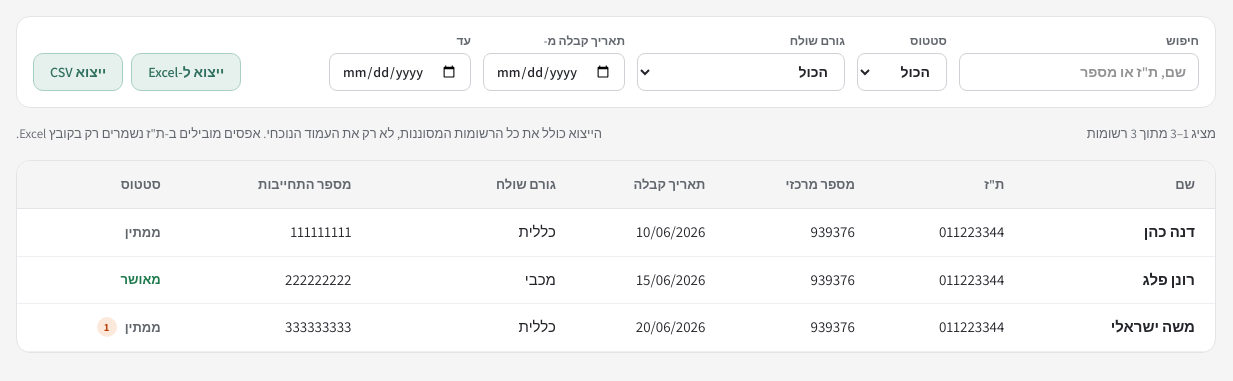
RecordsView: filters › offers "clear filters" only when a filter is set, and clears them all
The width and height of the screenshot is (1233, 381).
expect the message does not show "טוען": met, box top-left (1087, 124), bottom-right (1216, 144)
expect the button "נקי סינון" is not shown: met
Select "ממתין" in the dropdown labelled "סטטוס" at (902, 72), box top-left (857, 53), bottom-right (947, 91)
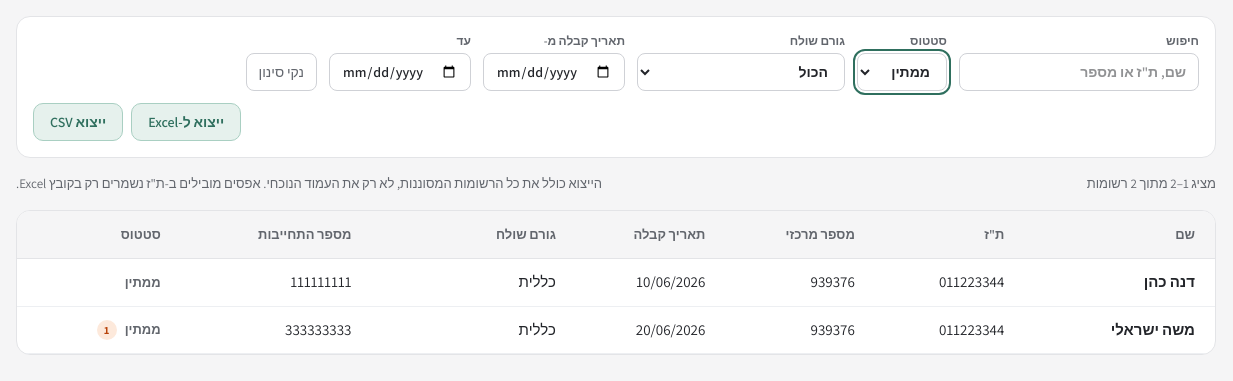
Select "מכבי" in the dropdown labelled "גורם שולח" at (741, 72), box top-left (637, 53), bottom-right (845, 91)
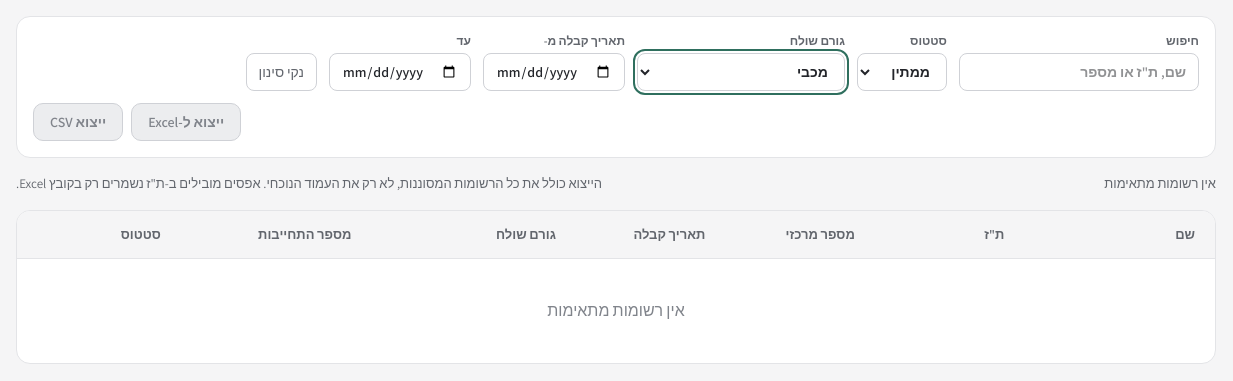
expect the message reads "אין רשומות מתאימות": met, box top-left (1104, 175), bottom-right (1216, 192)
Click the button "נקי סינון" at (281, 72), box top-left (246, 53), bottom-right (317, 91)
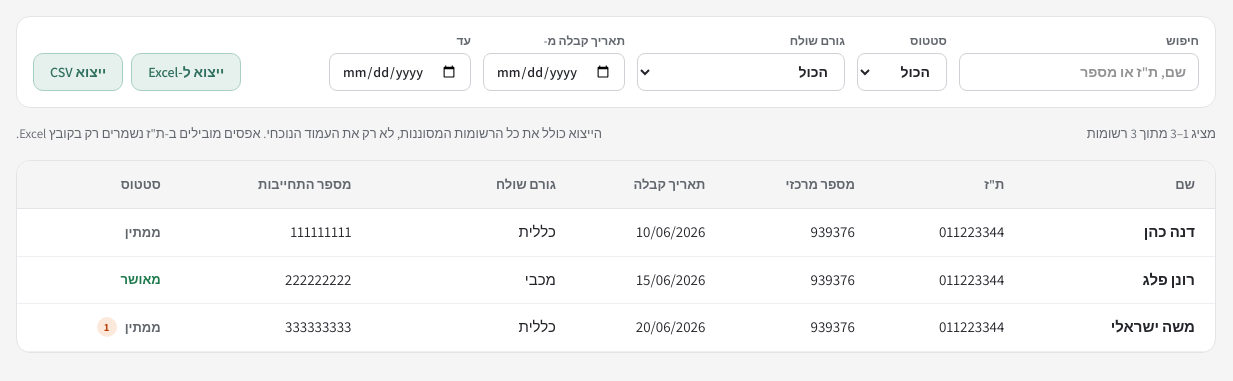
expect the message shows "מתוך 3 רשומות": met, box top-left (1087, 125), bottom-right (1216, 142)
expect the button "נקי סינון" is gone: met
